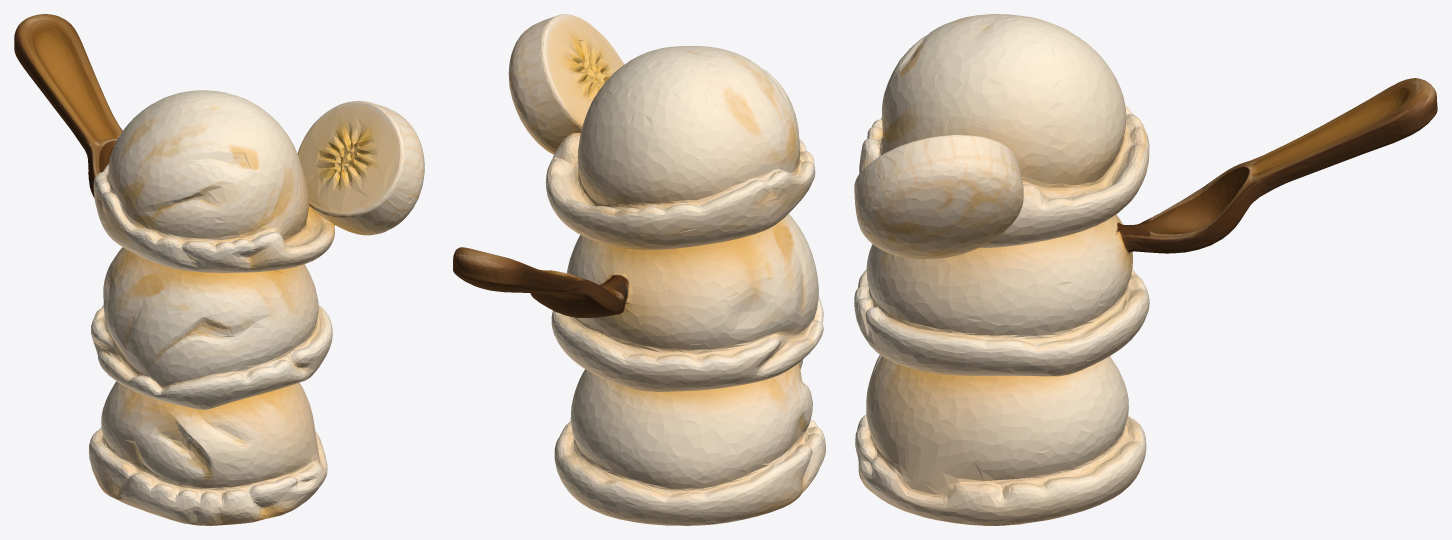
Rendered from Web_IceCream_Banana.obj.
The picture shows the model from 3 angles, left to right: view 1: azimuth 30°, elevation 25°; view 2: azimuth 150°, elevation 25°; view 3: azimuth 270°, elevation 25°; orthographic projection. The views are drawn at different scales.
Visible parts, largest first — view 1: Web_IceCream_Banana; view 2: Web_IceCream_Banana; view 3: Web_IceCream_Banana.
Boxes of the visible parts, x1=… form: Web_IceCream_Banana: x1=14, y1=14, x2=424, y2=525; Web_IceCream_Banana: x1=453, y1=14, x2=825, y2=525; Web_IceCream_Banana: x1=854, y1=14, x2=1437, y2=525.
Size of the model in its own units: 0.6548 by 0.8525 by 1.01.
1 material, 1 textured.
